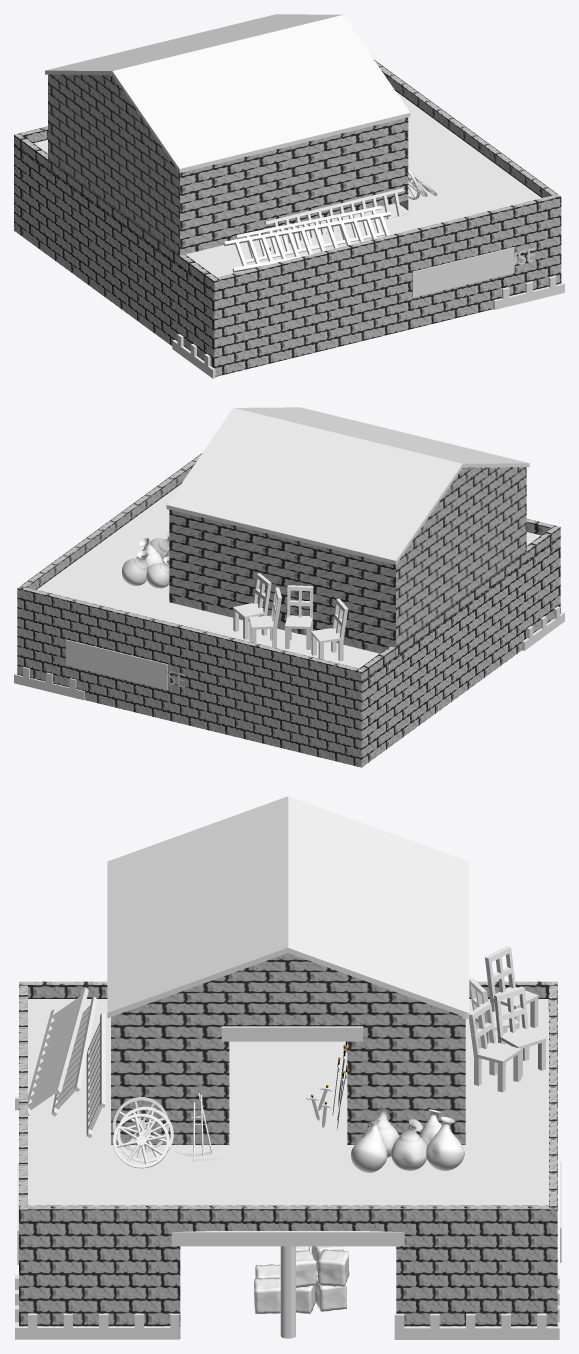
The model's file is warehousenew.glb.
3 views of the same model, one above another, from view 1: azimuth 30°, elevation 25°; view 2: azimuth 150°, elevation 25°; view 3: azimuth 270°, elevation 25° (orthographic). The views are drawn at different scales.
Parts seen in each view (by area): view 1: Plane.002, Plane.004, Plane.005, Plane.013, Plane.014, Plane.012, Plane.011, Plane.015, Text, Plane.017; view 2: Plane.002, Plane.004, Plane.005, Plane.001, Cube.001, Cube.003, Cube.002, Plane.016, Cube.004, Text.001, Sphere.004, Plane.017 (+1 smaller); view 3: Plane.002, Plane.005, Plane.004, Cube, Plane.010, Plane.013, Plane.018, Plane.019, Cube.003, Plane.009, Cube.004, Plane.011 (+10 smaller).
Boxes of the visible parts, x1,y1,x2,y2 form: Plane.002: (14,60,561,376); Plane.004: (48,74,408,255); Plane.005: (45,14,410,172); Plane.013: (223,212,390,272); Plane.014: (412,247,514,297); Plane.012: (235,206,388,263); Plane.011: (264,188,408,250); Plane.015: (493,275,564,309); Text: (420,247,535,287); Plane.017: (172,334,215,378); Plane.002: (17,453,560,767); Plane.004: (169,467,526,657); Plane.005: (166,407,529,564); Plane.001: (66,639,167,689); Cube.001: (311,598,348,661); Cube.003: (233,573,271,639); Cube.002: (285,585,313,649); Plane.016: (14,667,84,700); Cube.004: (249,587,281,648); Text.001: (70,646,185,687); Sphere.004: (122,551,148,585); Plane.017: (522,606,564,650); Plane.002: (19,981,557,1338); Plane.005: (107,796,469,1019); Plane.004: (111,953,465,1144); Cube: (254,1246,349,1313); Plane.010: (171,1231,404,1246); Plane.013: (28,987,88,1115); Plane.018: (394,1313,559,1339); Plane.019: (15,1313,179,1339); Cube.003: (469,1002,521,1092); Plane.009: (221,1026,363,1041); Cube.004: (494,986,546,1076); Plane.011: (86,1013,105,1137).
Size of what is drawn, in the model's own units: 2.87 by 1.82 by 2.89.
Materials: 10 (1 with a texture image).
